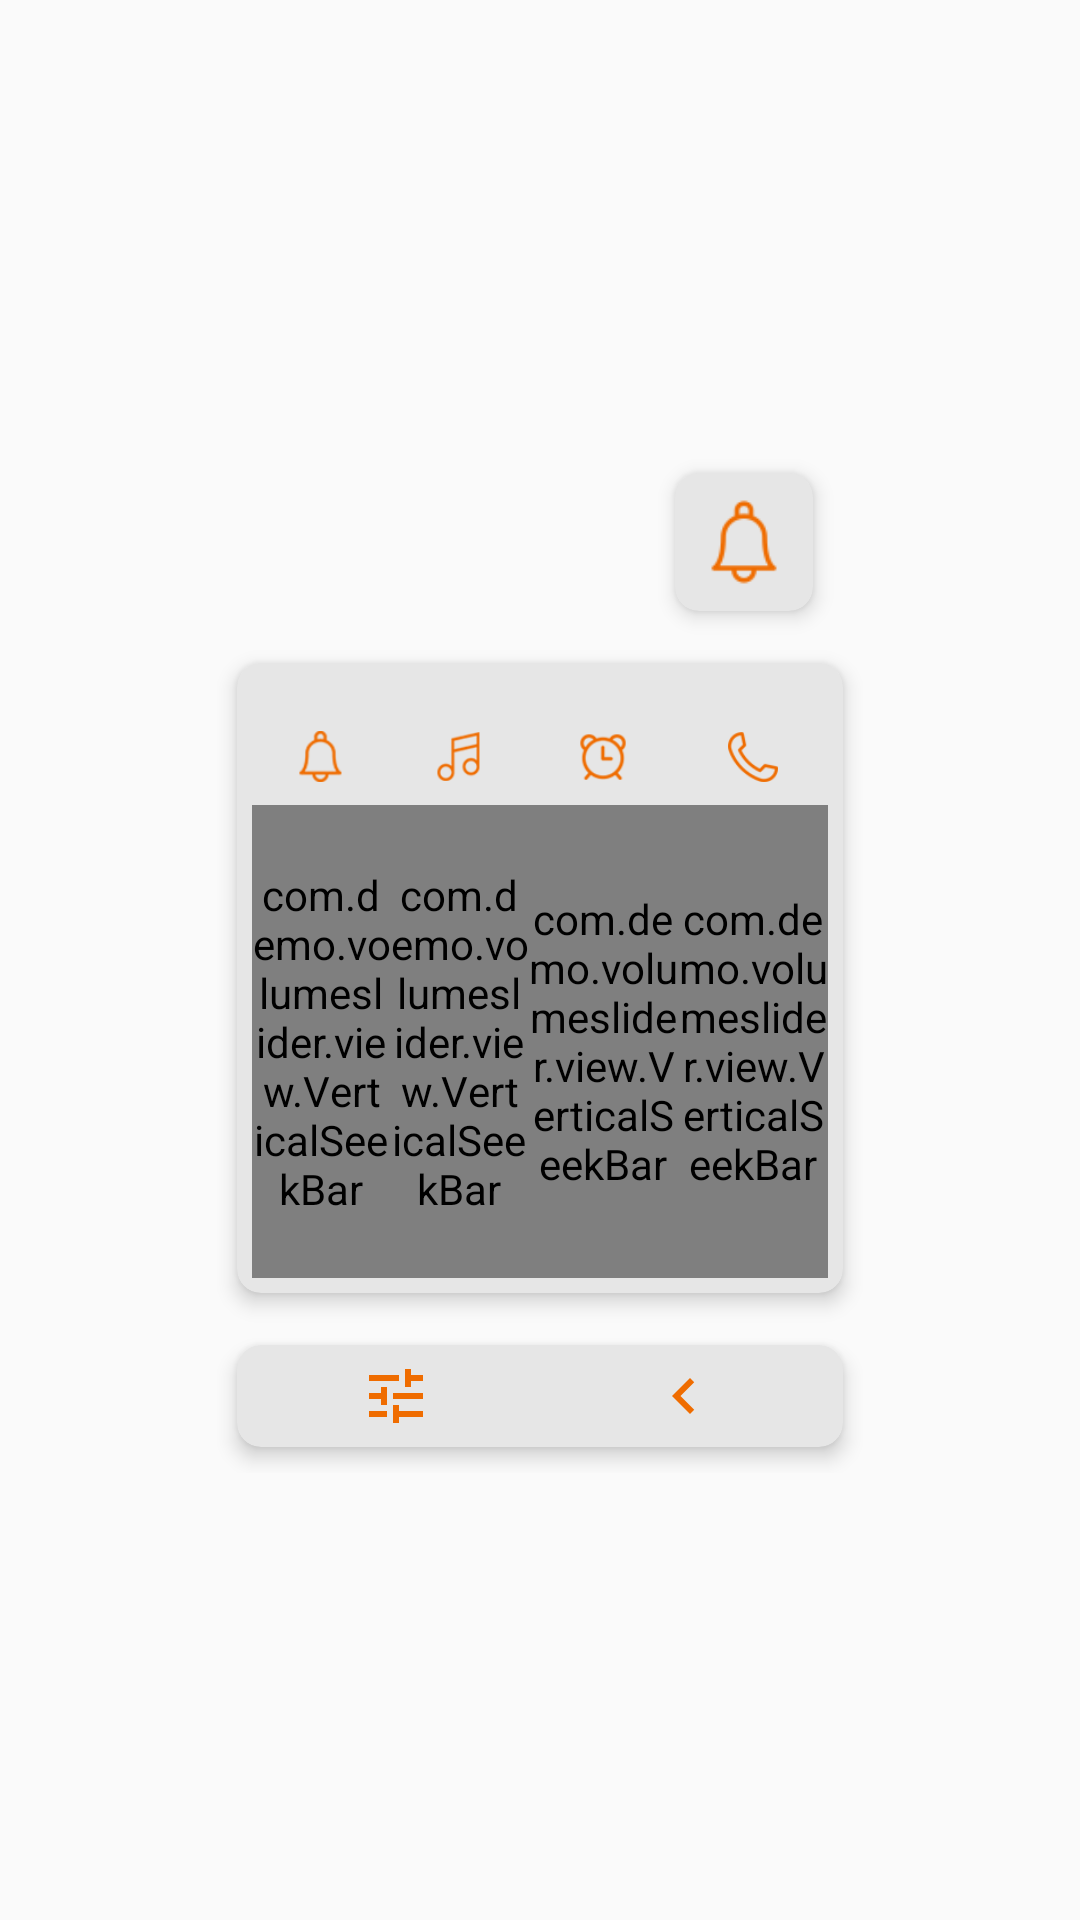

Locate icon controls on the screen. Image size 1080*1920, boxes as (x1, y1, x2, y2).
alram: (580, 734, 626, 780)
call: (728, 732, 778, 782)
music: (437, 732, 480, 781)
navigate before: (672, 1378, 694, 1414)
ring: (711, 500, 777, 584), (299, 731, 342, 782)
tune: (369, 1369, 423, 1423)
